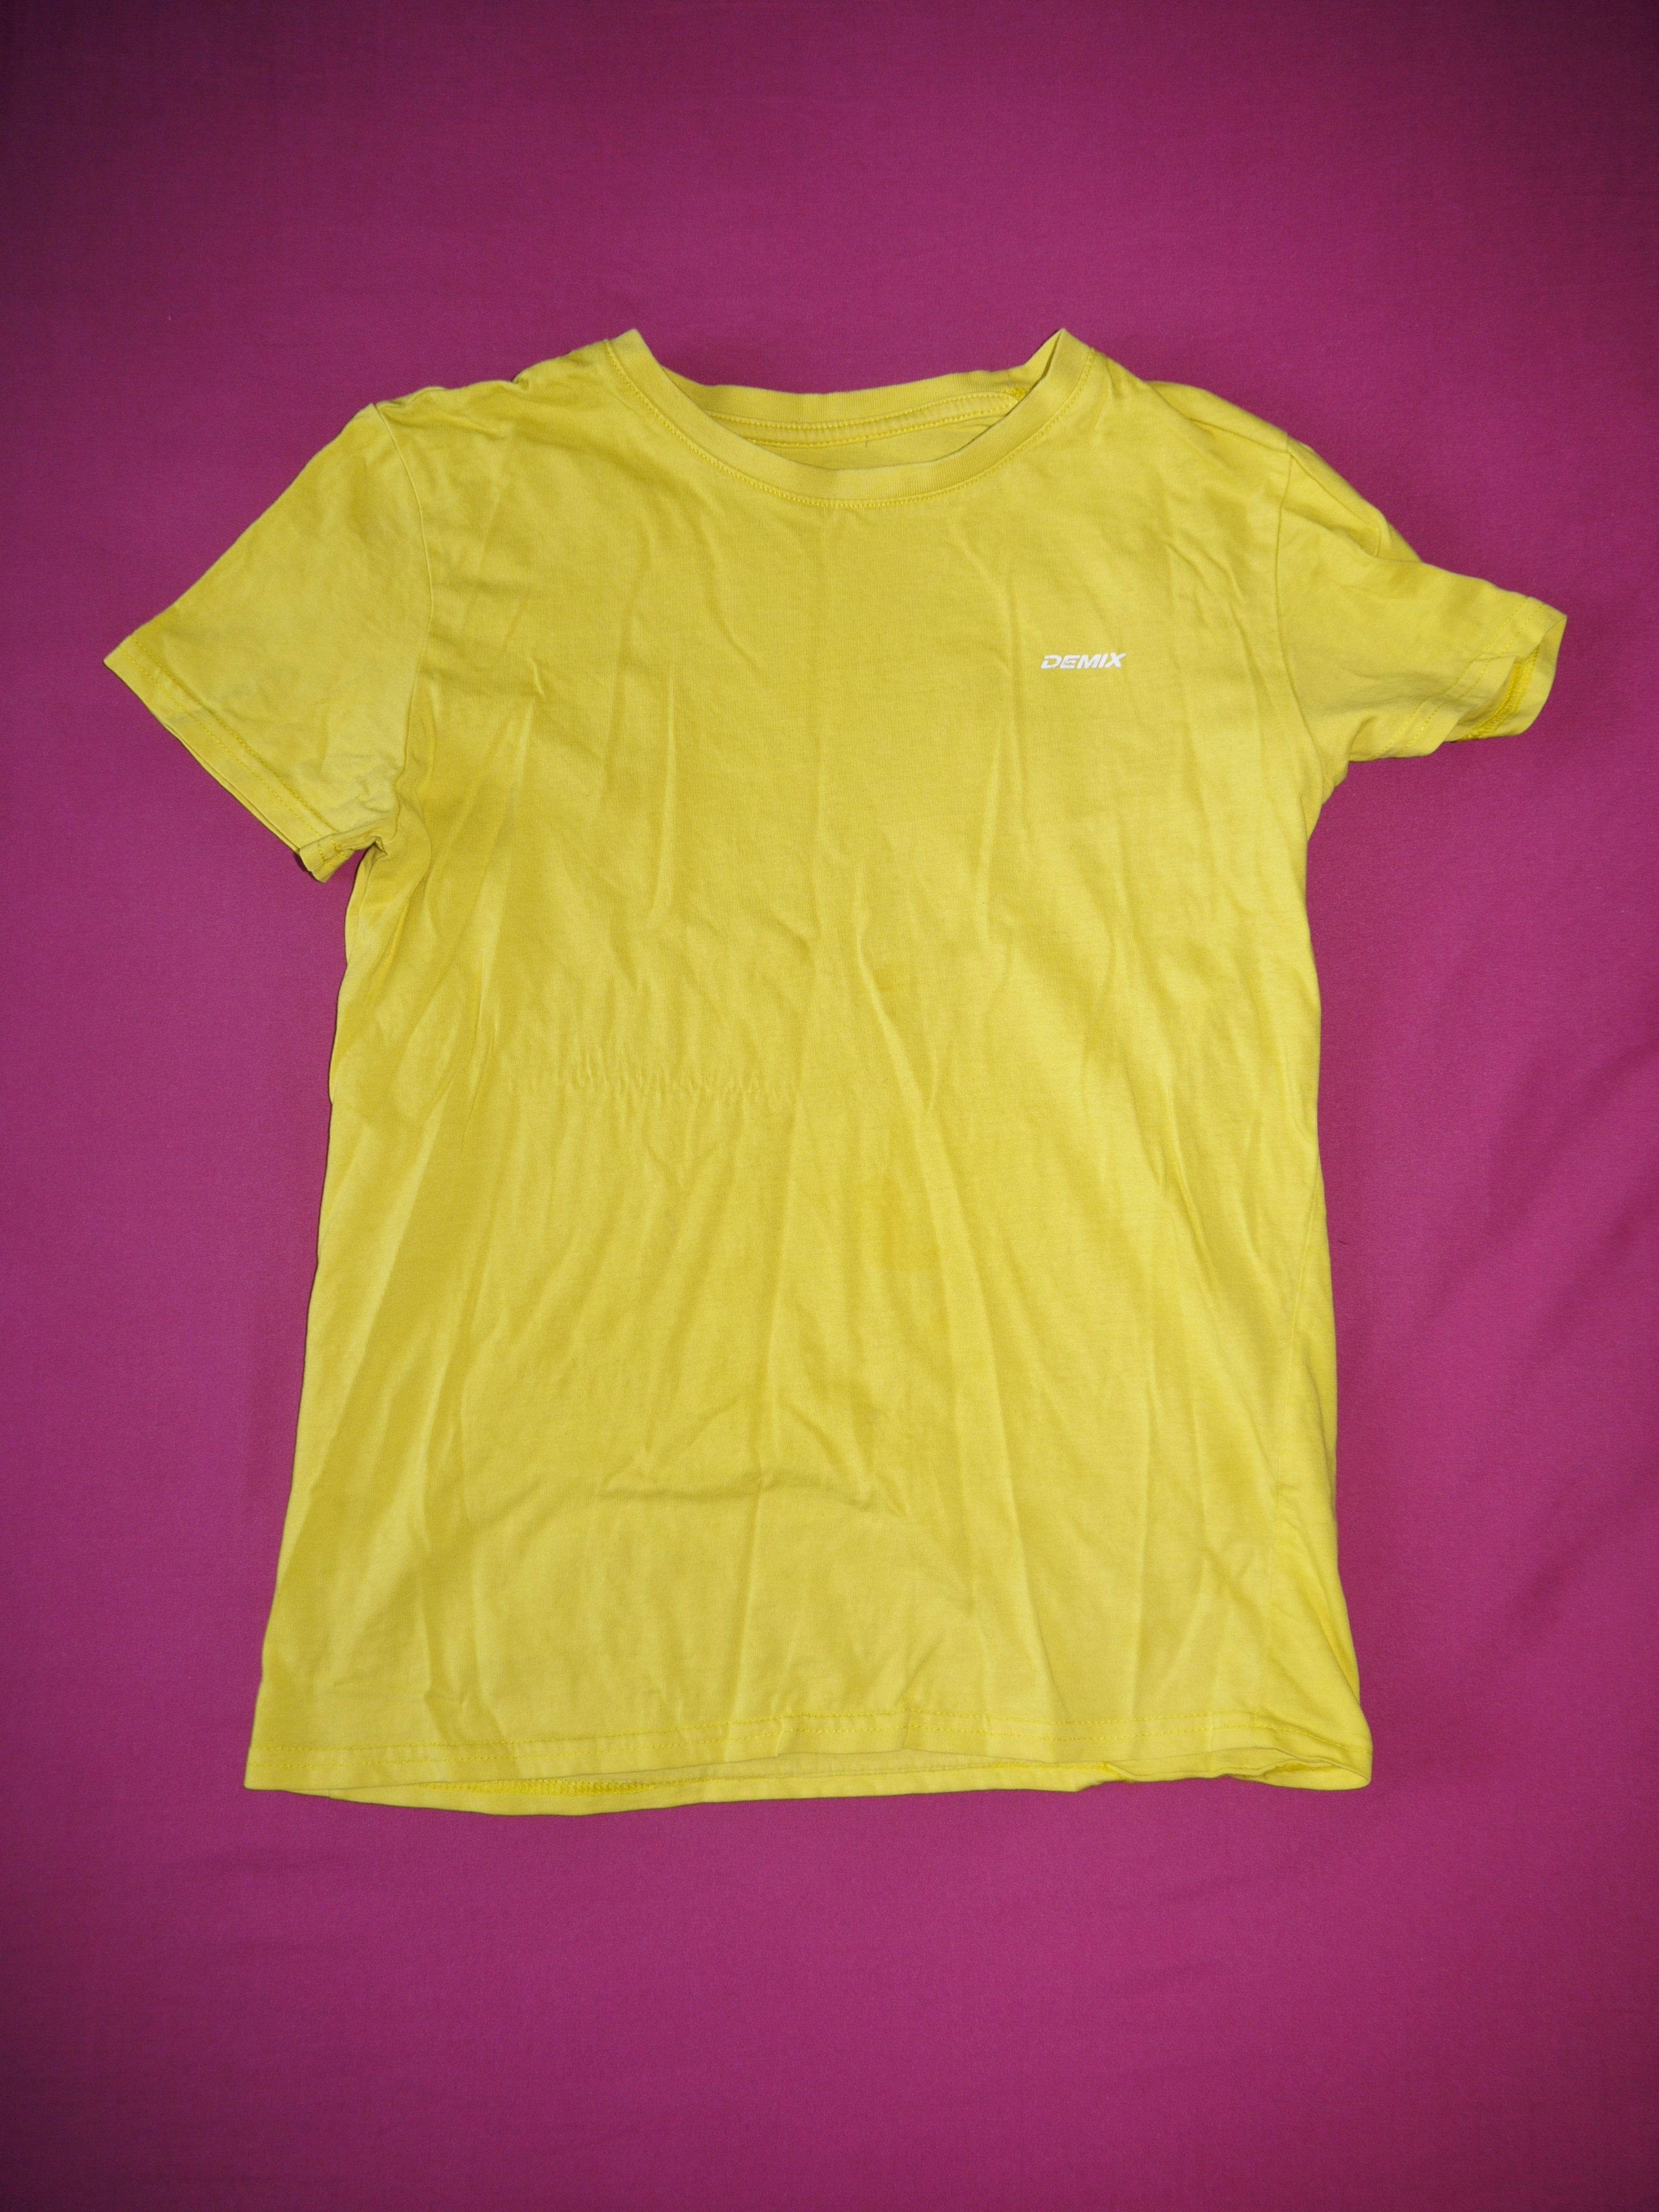clothes: (105, 324, 1567, 1839)
